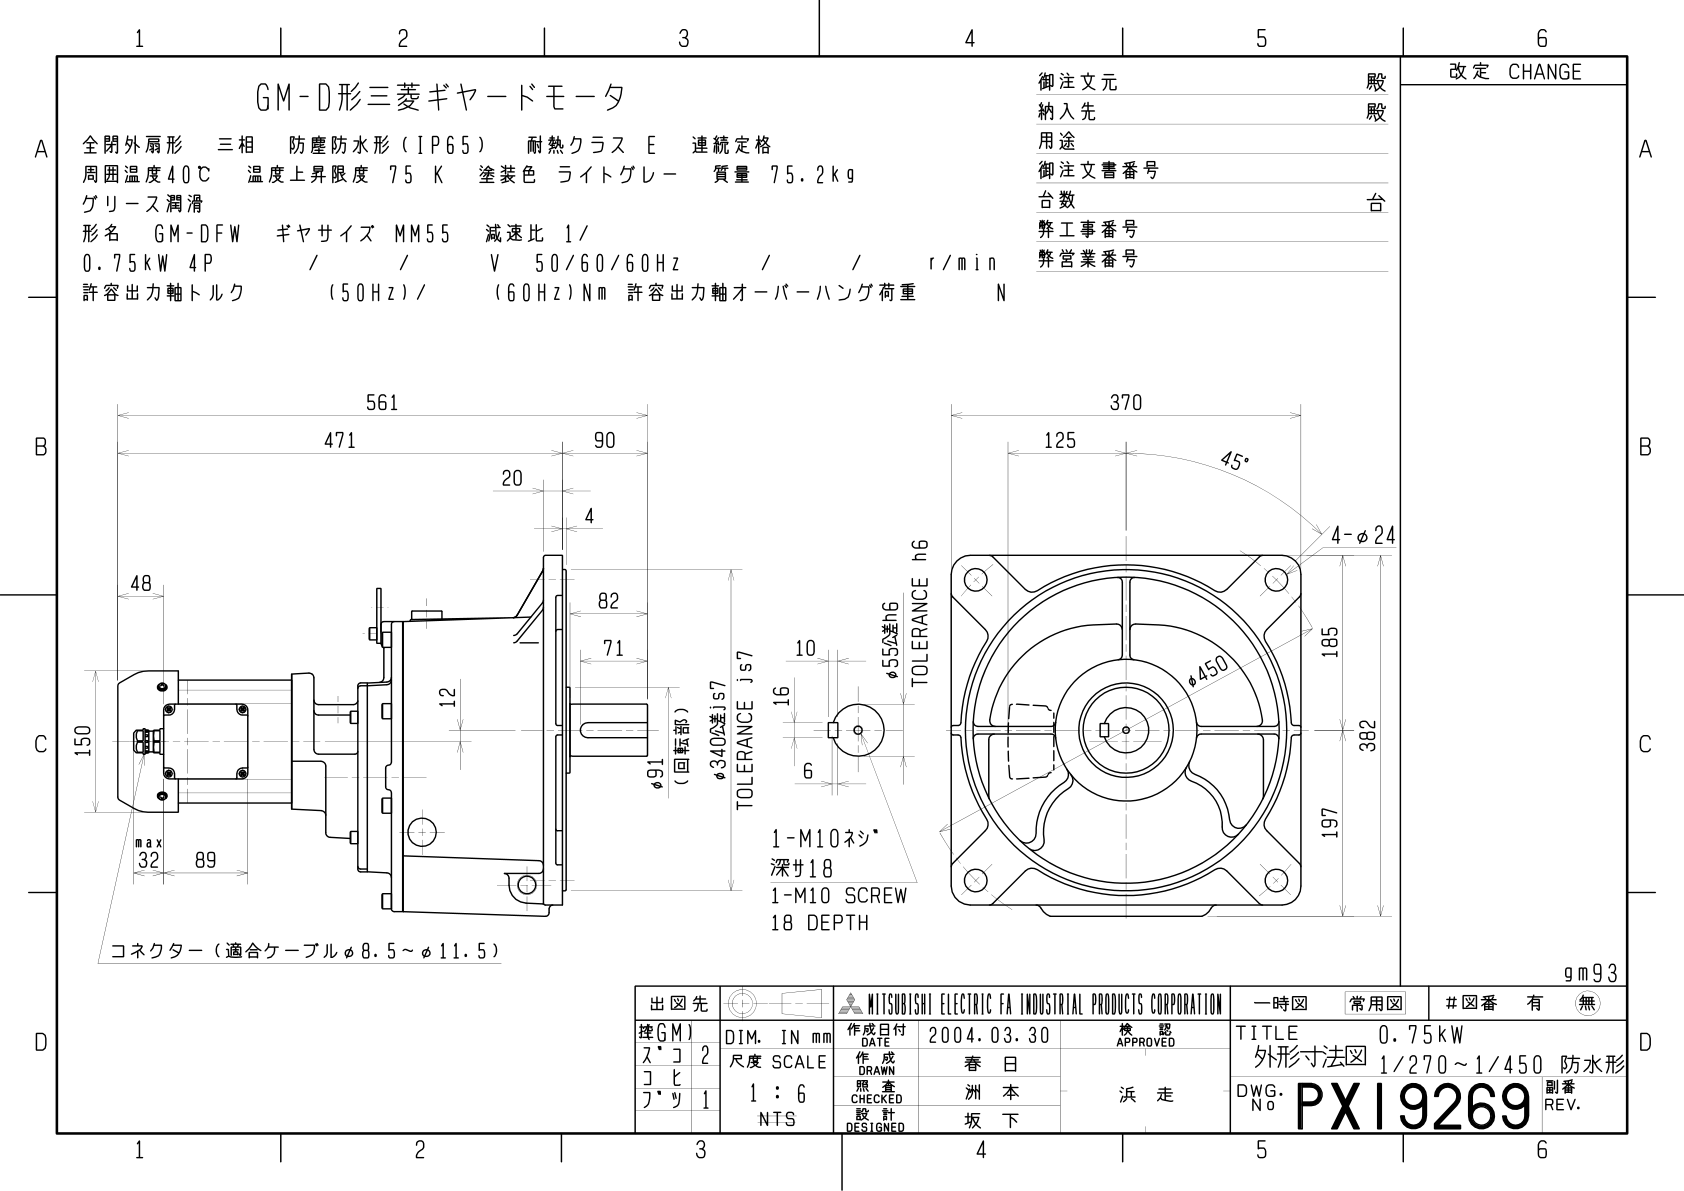GM_D_IP65_三相_フランジ: (70, 345, 1399, 965)
